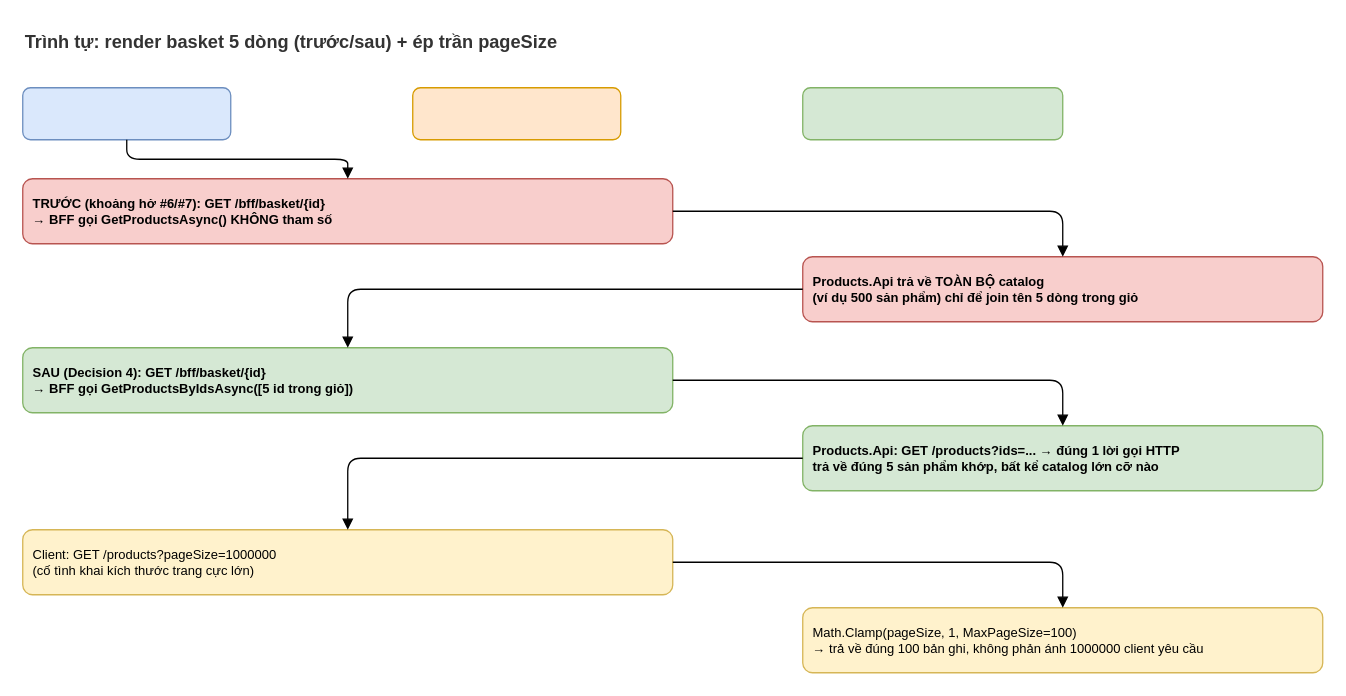
The diagram is 1346 pixels wide and 696 high, and some of its shapes have lost their labels. The shapes that lost their labels are listed below. From the top down, each one's centre as x and y in pixels, then its label:
At [126,113]: "Client".
At [516,113]: "Bff.Api".
At [932,113]: "Products.Api".
